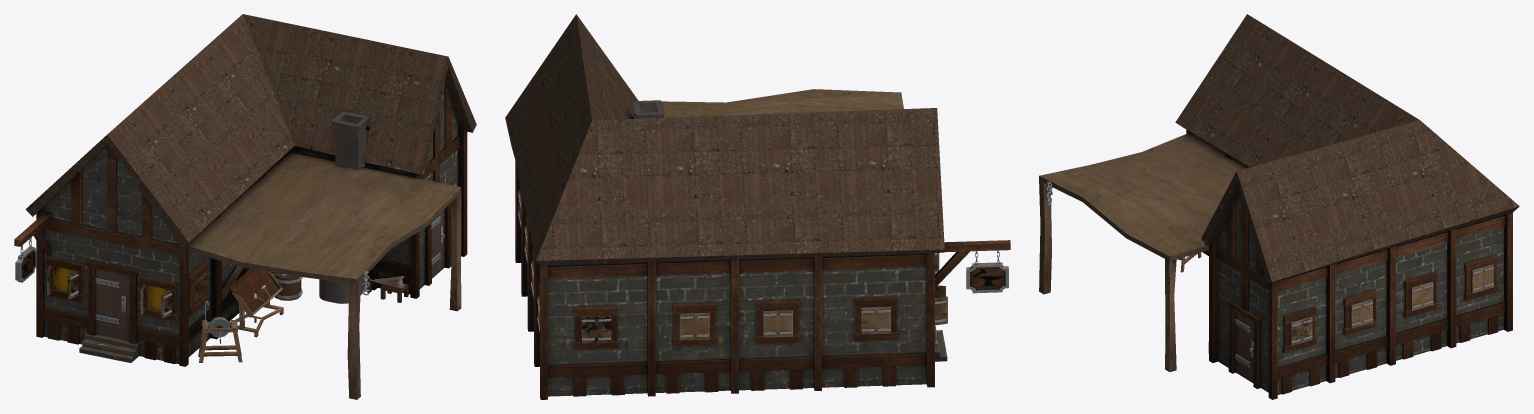
Rendered from house 8.fbx.
3 views of the same model, side by side, from view 1: azimuth 30°, elevation 25°; view 2: azimuth 150°, elevation 25°; view 3: azimuth 270°, elevation 25° (orthographic). The views are drawn at different scales.
Parts seen in each view (by area): view 1: BaseSkeleton.001_BaseSkeleton_0, OutSkeleton.001_OutSkeleton_0, Props.001_Props_0, Props_02.001_Prop_02.001_0, Windows.001_Windows_0; view 2: BaseSkeleton.001_BaseSkeleton_0, OutSkeleton.001_OutSkeleton_0, Windows.001_Windows_0, Props.001_Props_0; view 3: BaseSkeleton.001_BaseSkeleton_0, OutSkeleton.001_OutSkeleton_0, Windows.001_Windows_0.
Boxes of the visible parts, x1,y1,x2,y2 form: BaseSkeleton.001_BaseSkeleton_0: [25, 14, 476, 399]; OutSkeleton.001_OutSkeleton_0: [14, 85, 467, 366]; Props.001_Props_0: [272, 111, 408, 303]; Props_02.001_Prop_02.001_0: [198, 268, 369, 362]; Windows.001_Windows_0: [45, 256, 208, 321]; BaseSkeleton.001_BaseSkeleton_0: [505, 14, 947, 396]; OutSkeleton.001_OutSkeleton_0: [515, 161, 1010, 399]; Windows.001_Windows_0: [518, 184, 947, 350]; Props.001_Props_0: [633, 100, 664, 118]; BaseSkeleton.001_BaseSkeleton_0: [1039, 14, 1519, 394]; OutSkeleton.001_OutSkeleton_0: [1186, 129, 1512, 399]; Windows.001_Windows_0: [1283, 254, 1498, 353].
Size of the model in its own units: 1553 by 708 by 1458.
Materials: 5 (5 with a texture image).
